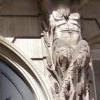Statue: (35, 0, 92, 92)
